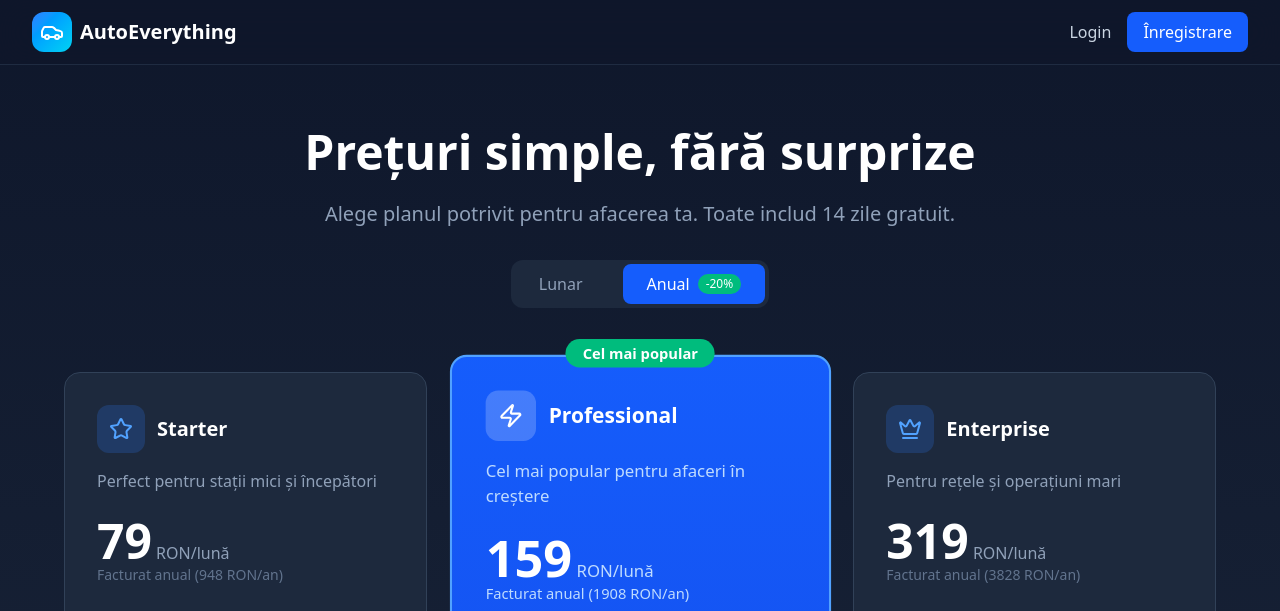
Test: PricingPage › toggles to monthly pricing
The width and height of the screenshot is (1280, 611).
Click the button "Lunar" at (561, 284), box [515,264,607,304]
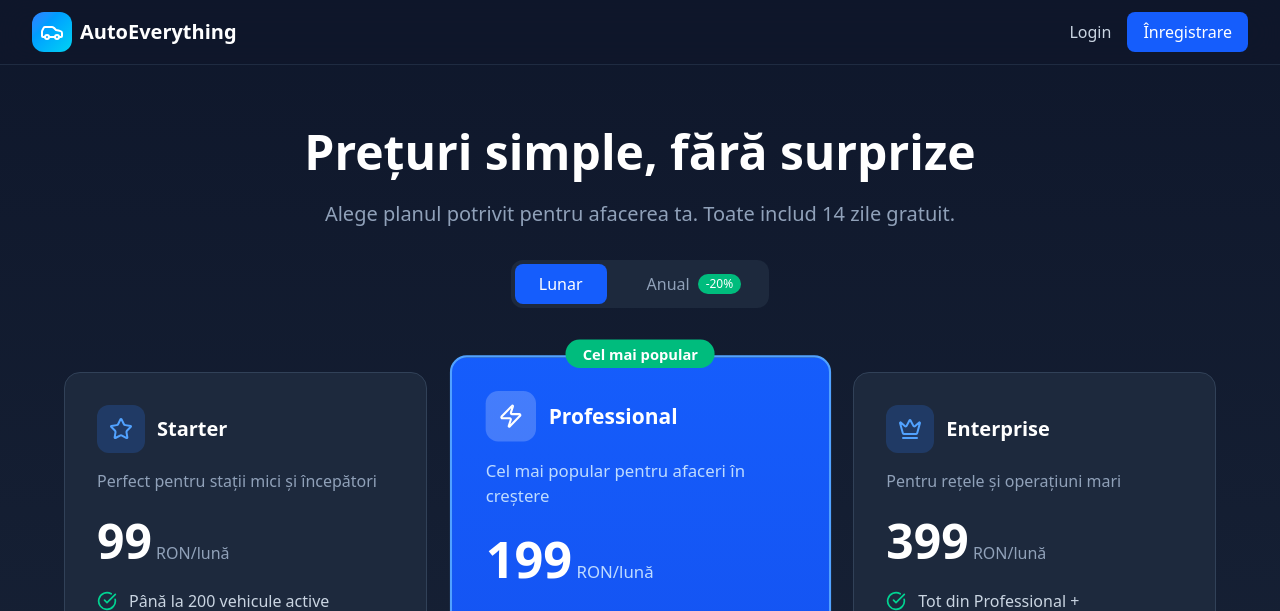
Now the text "99" is shown, box [97,508,152,573]
